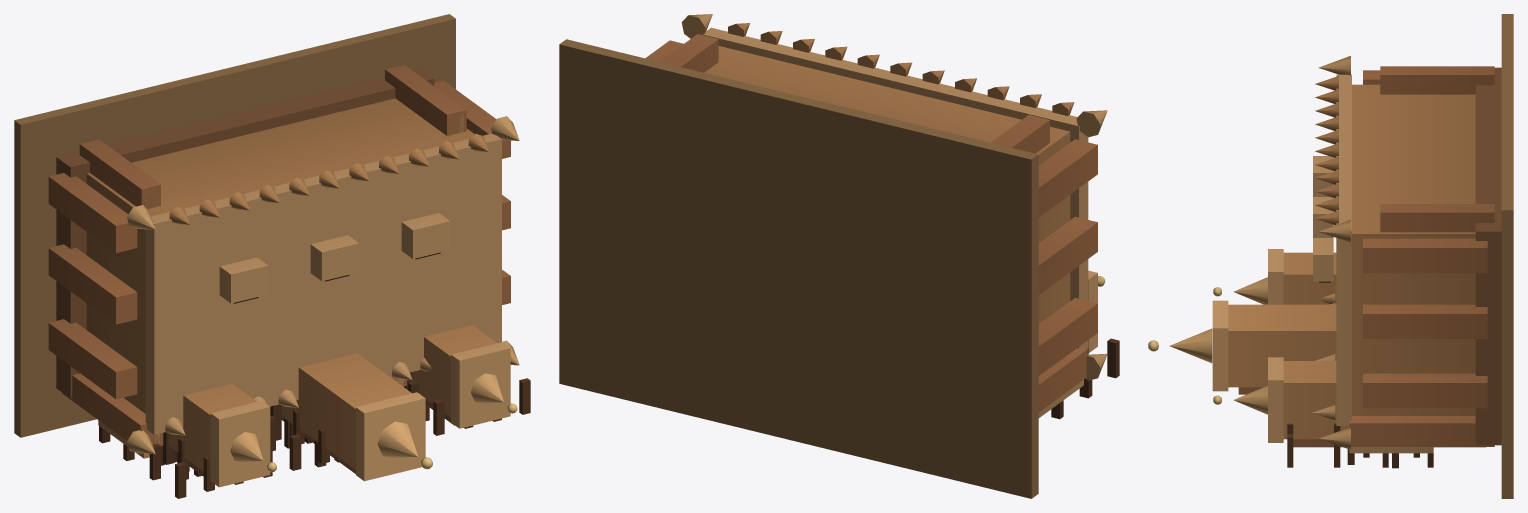
Rendered from djenne-mosque.glb.
The picture shows the model from 3 angles, left to right: view 1: azimuth 30°, elevation 25°; view 2: azimuth 150°, elevation 25°; view 3: azimuth 270°, elevation 25°; orthographic projection. The views are drawn at different scales.
Parts seen in each view (by area): view 1: part-mudLight, part-mud, part-ground, part-buttress, part-mudShade, part-timber, part-cap; view 2: part-ground, part-mud, part-buttress, part-mudLight, part-cap, part-timber; view 3: part-mud, part-buttress, part-mudLight, part-mudShade, part-ground, part-cap, part-timber.
Boxes of the visible parts, bbox=[...] form: part-mudLight: bbox=[98, 114, 510, 487]; part-mud: bbox=[86, 98, 497, 476]; part-ground: bbox=[14, 14, 455, 437]; part-buttress: bbox=[48, 65, 510, 445]; part-mudShade: bbox=[56, 68, 454, 476]; part-timber: bbox=[99, 378, 530, 498]; part-cap: bbox=[127, 116, 519, 462]; part-ground: bbox=[559, 39, 1038, 498]; part-mud: bbox=[704, 23, 1074, 323]; part-buttress: bbox=[645, 34, 1097, 412]; part-mudLight: bbox=[702, 27, 1097, 417]; part-cap: bbox=[681, 14, 1107, 380]; part-timber: bbox=[1051, 338, 1119, 419]; part-mud: bbox=[1228, 76, 1475, 439]; part-buttress: bbox=[1349, 66, 1494, 446]; part-mudLight: bbox=[1212, 74, 1433, 453]; part-mudShade: bbox=[1238, 67, 1501, 447]; part-ground: bbox=[1501, 14, 1513, 498]; part-cap: bbox=[1169, 56, 1350, 449]; part-timber: bbox=[1287, 423, 1433, 468].
Bounding box in the file's own units: 1.34 × 0.9325 × 1.06.
